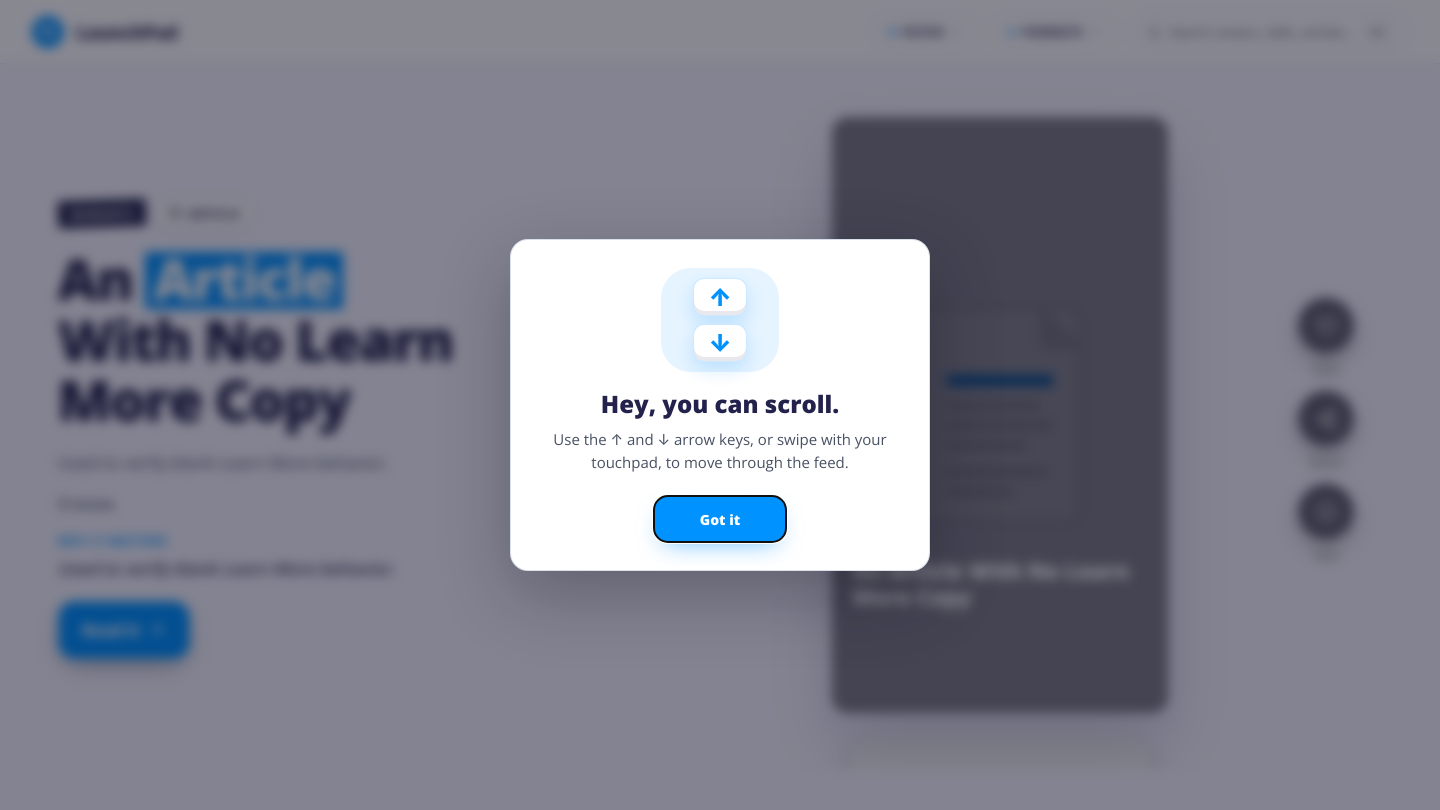
Test: LaunchpadApp feed navigation › keeps the Article format filter after opening Read it on the current article card
Click the button "Got it". click: (720, 519)
box: [654, 496, 786, 542]
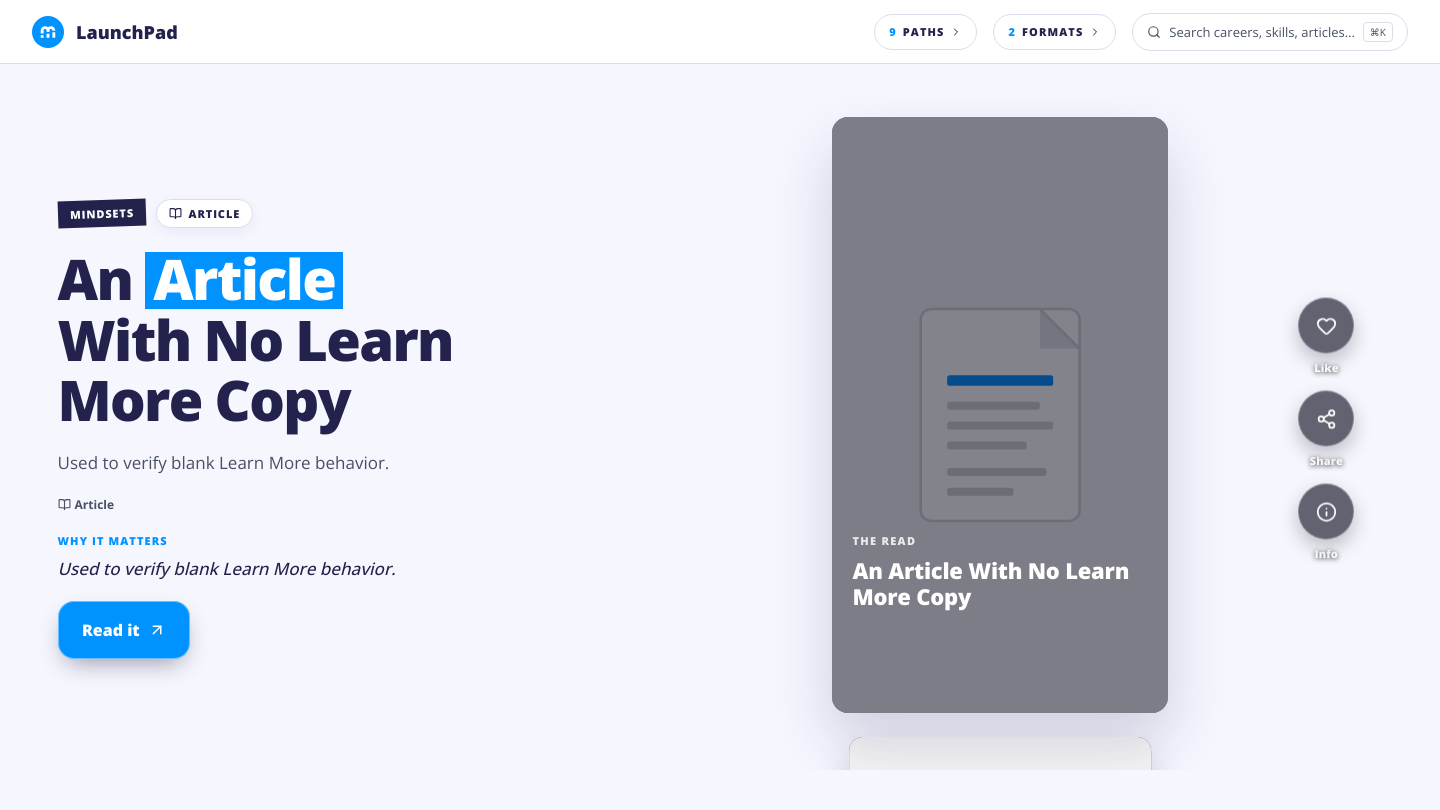
Click the button "2 Formats". click: (1055, 32)
box: [994, 14, 1116, 50]
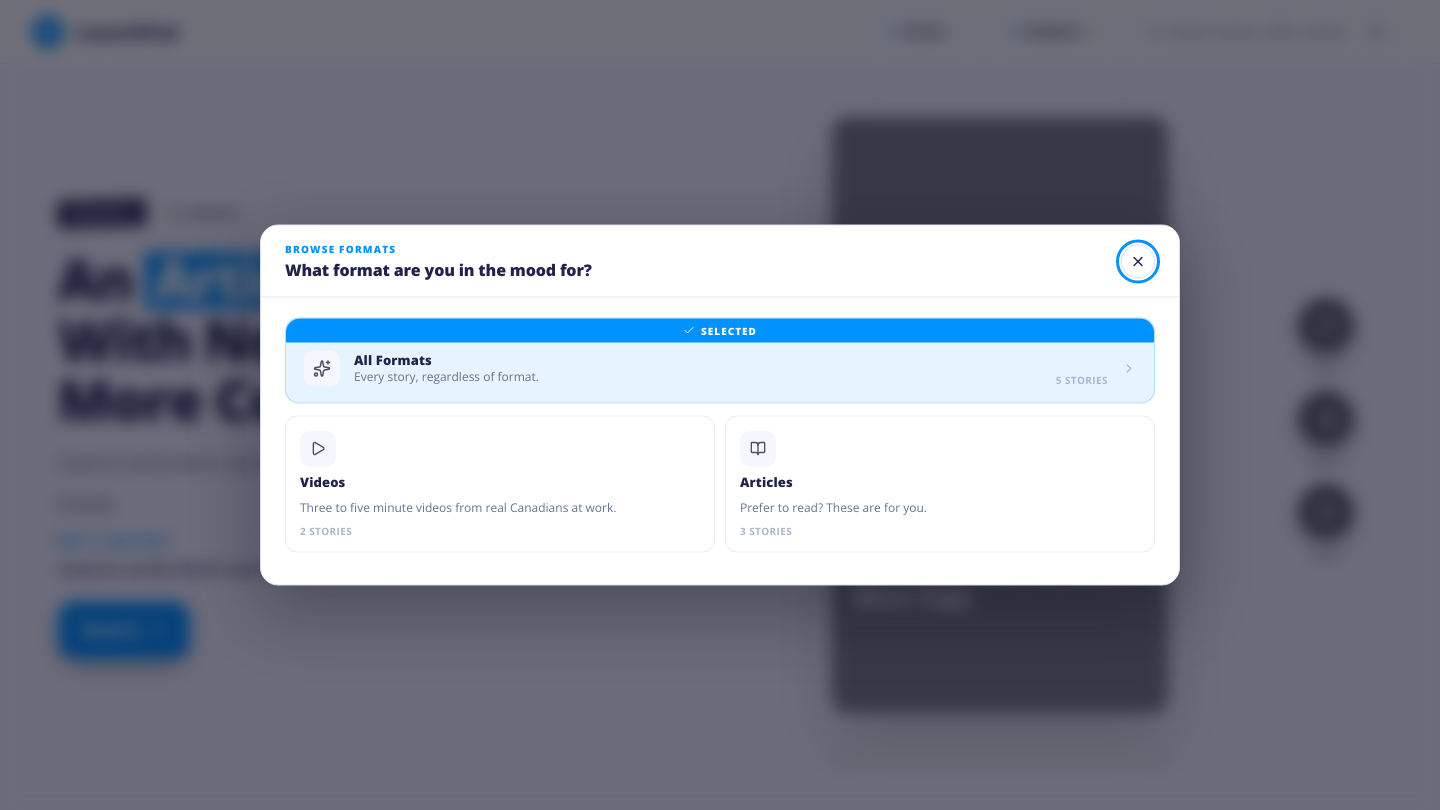
Click the button "Articles Prefer to read? These are for you. 3 stories". click: (758, 449)
box: [725, 416, 1155, 552]
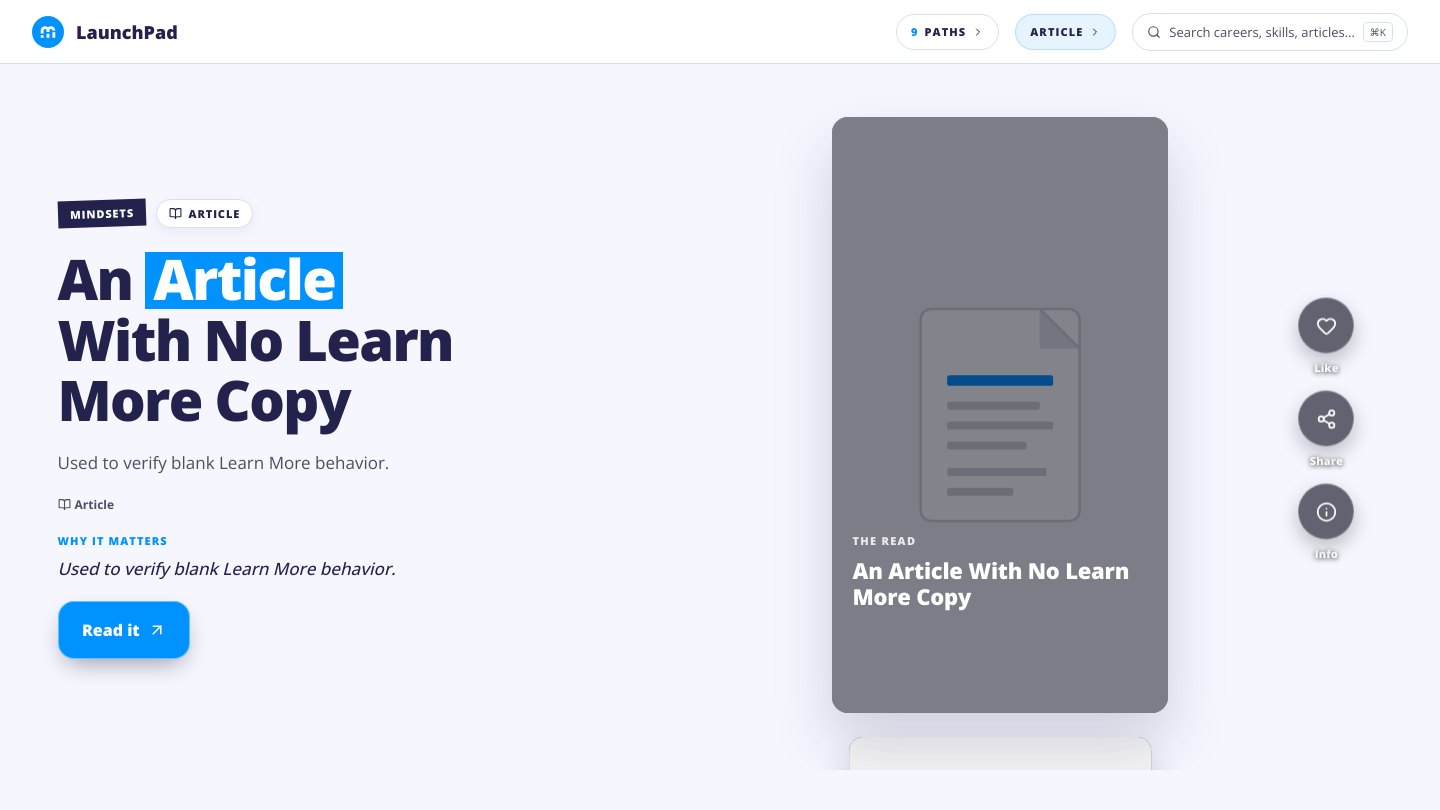
Click the button with test id "learn-more-primary-cta". click: (123, 630)
box: [58, 601, 189, 659]
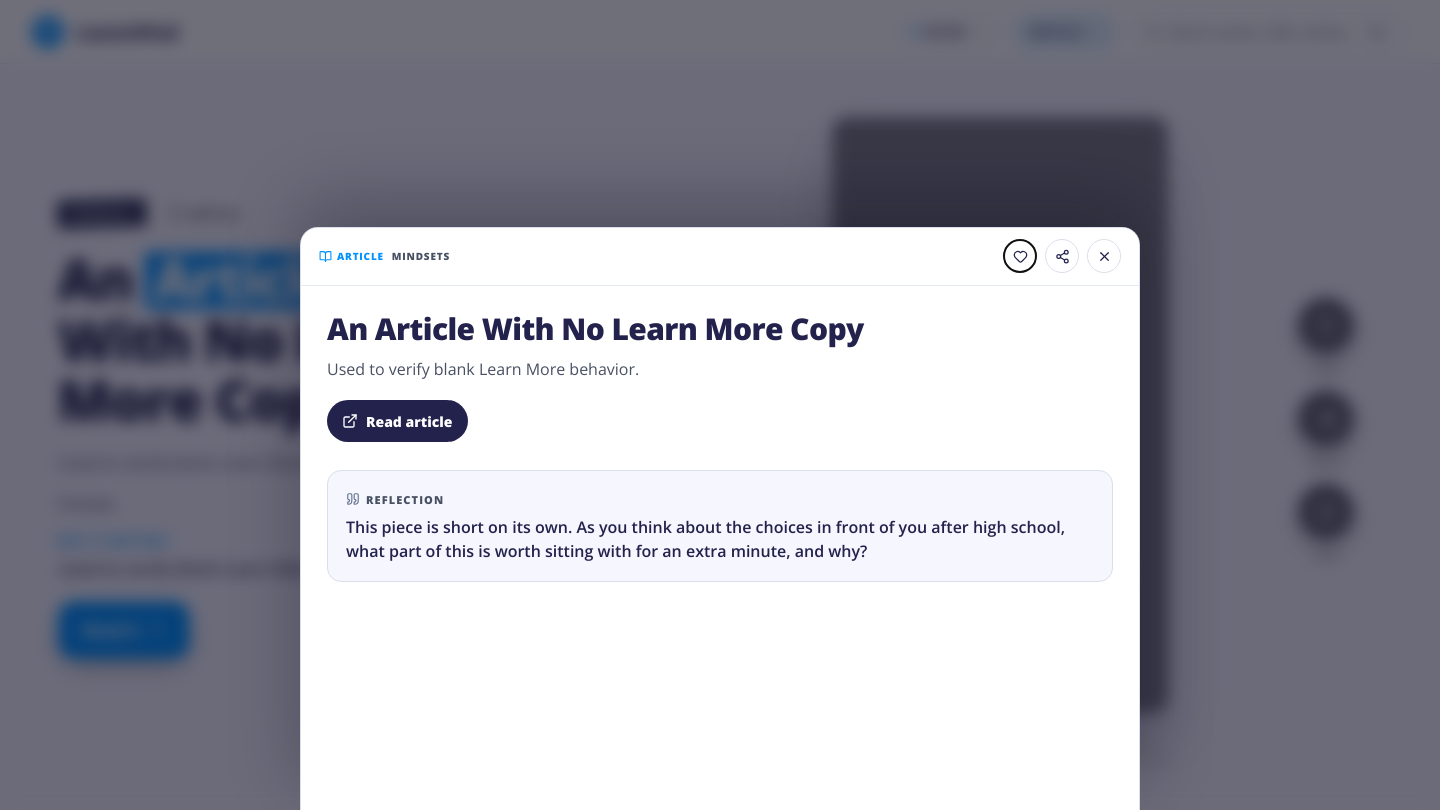
Expected: the button "2 Formats" is not shown
Expected: the dialog "Article With No Learn More Copy" is shown, [300, 227, 1140, 809]
